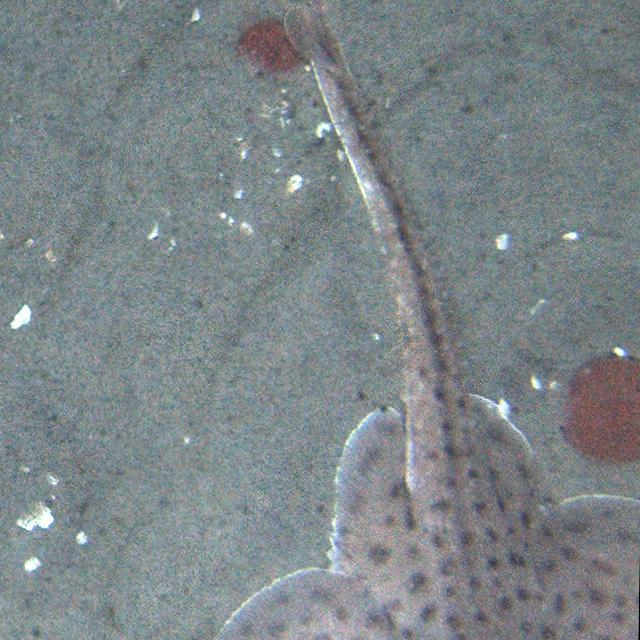skate: (220, 0, 640, 640)
